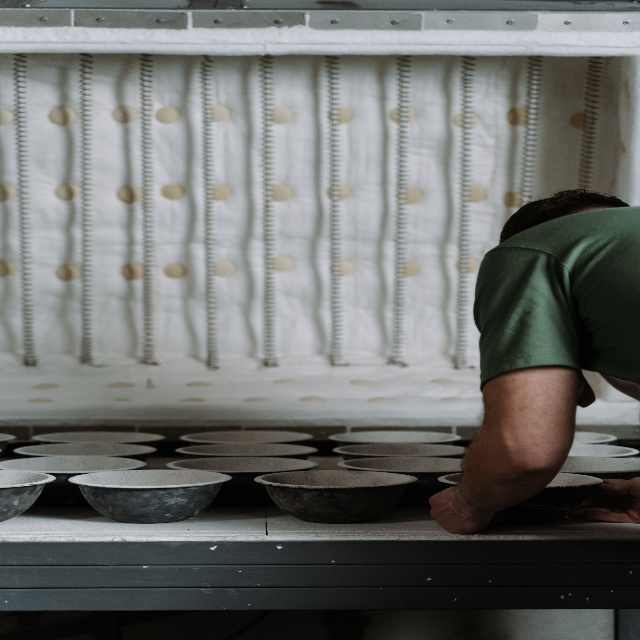Sin_guantes: (567, 477, 640, 524), (428, 485, 495, 535)
